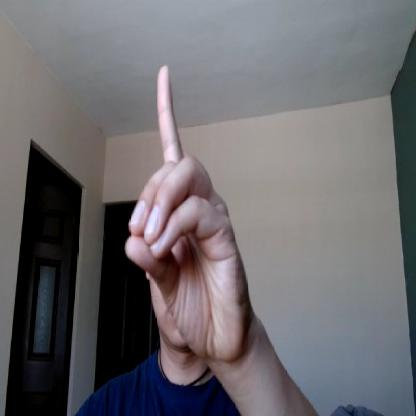D: (124, 63, 247, 361)
